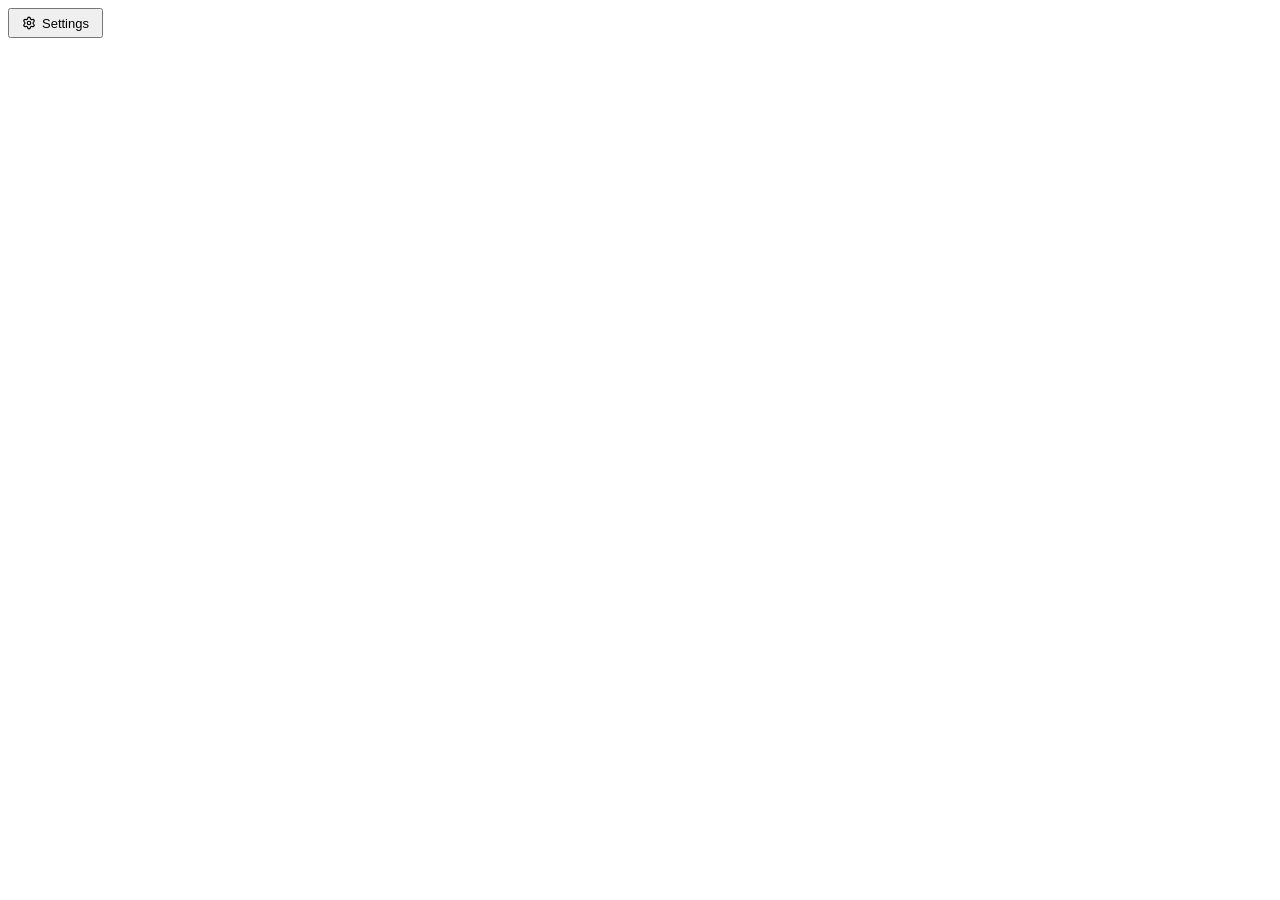
Test: Possibly Ended re-check on save (02) › a save that does not change the months does not re-check
Click the button "Settings" at {"x": 56, "y": 23}, box [8, 8, 103, 38]
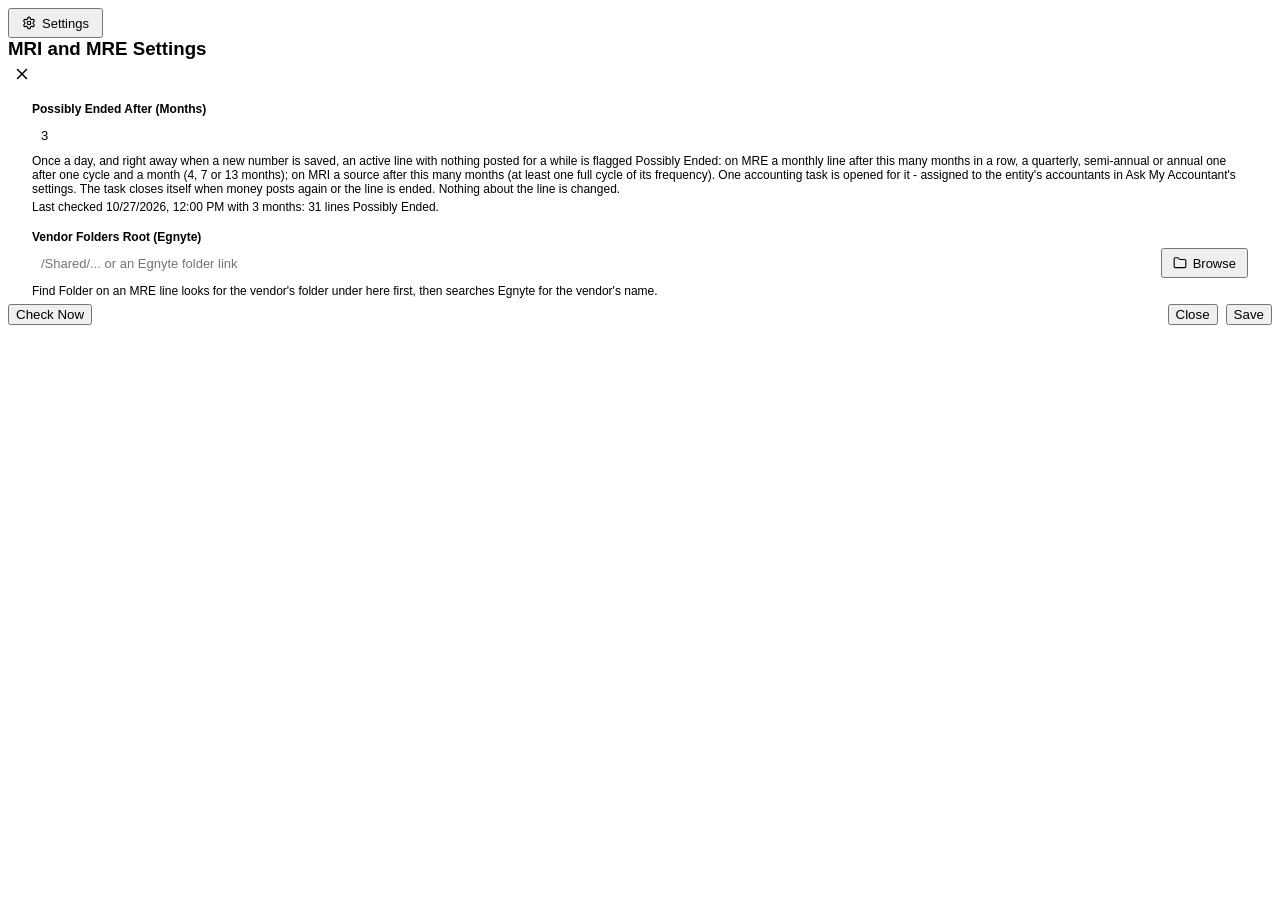
Expected: the text "Last checked" is shown, [32, 200, 439, 214]
Click the button "Save" at {"x": 1249, "y": 314}, box [1226, 304, 1272, 325]
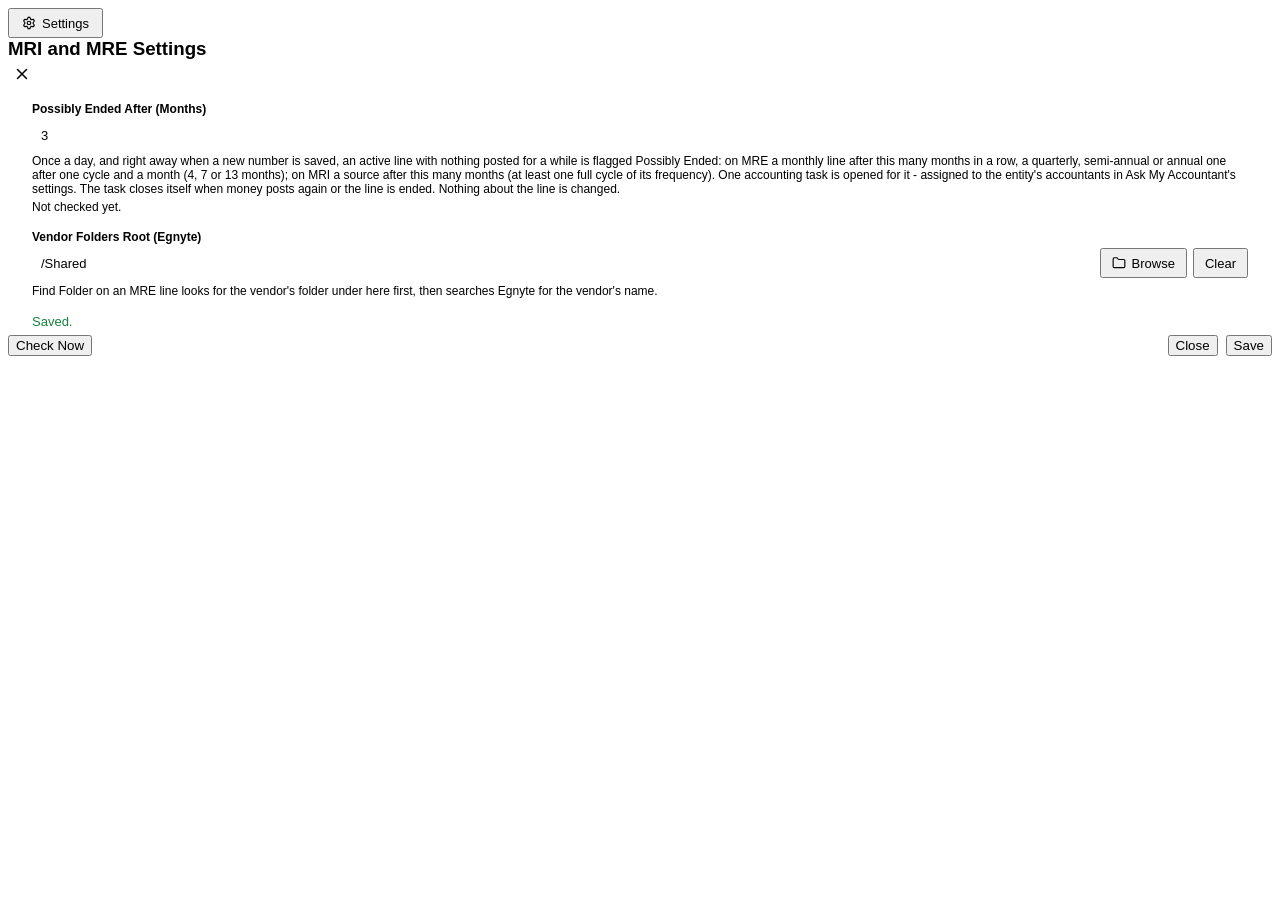
Expected: the text "Saved." is shown, [32, 314, 72, 329]
